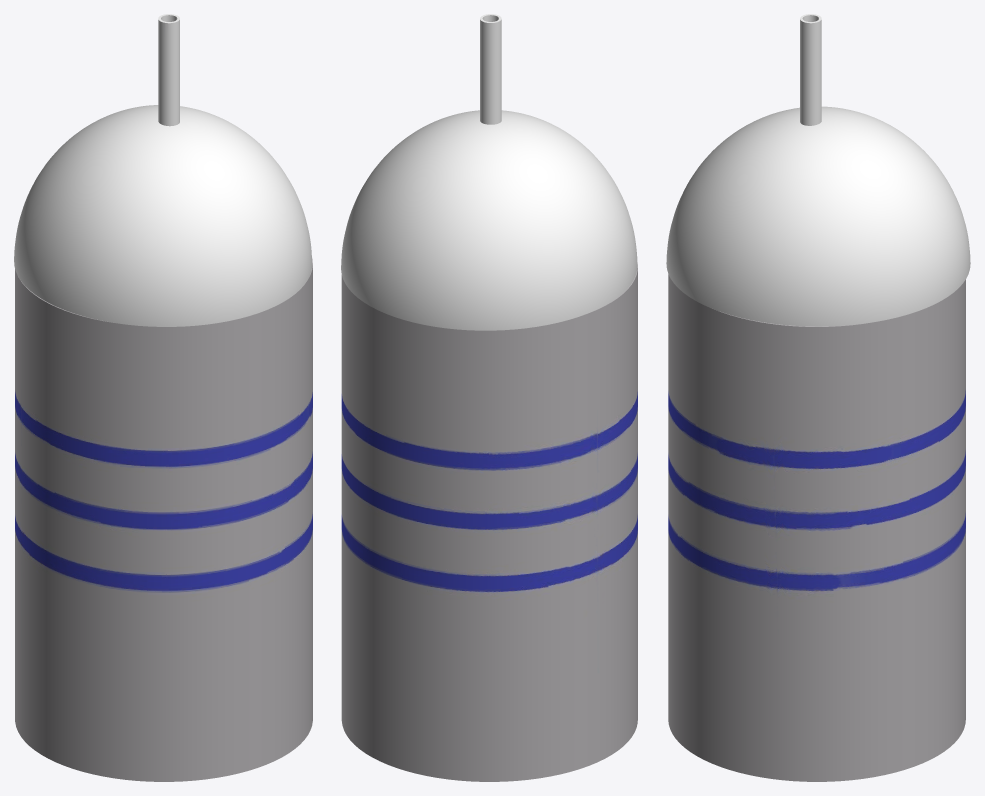
The model's file is vasobebida.fbx.
3 views of the same model, side by side, from view 1: azimuth 30°, elevation 25°; view 2: azimuth 150°, elevation 25°; view 3: azimuth 270°, elevation 25° (orthographic).
Visible parts, largest first — view 1: node_id9, node_id12, node_id6; view 2: node_id9, node_id12, node_id6; view 3: node_id9, node_id12, node_id6.
Boxes of the visible parts, x1=… form: node_id9: x1=15, y1=258, x2=312, y2=781; node_id12: x1=14, y1=105, x2=312, y2=326; node_id6: x1=158, y1=14, x2=179, y2=126; node_id9: x1=341, y1=262, x2=637, y2=781; node_id12: x1=341, y1=110, x2=637, y2=330; node_id6: x1=480, y1=14, x2=501, y2=124; node_id9: x1=668, y1=274, x2=965, y2=781; node_id12: x1=666, y1=106, x2=970, y2=326; node_id6: x1=800, y1=14, x2=821, y2=125.
Size of the model in its own units: 0.1969 by 0.512 by 0.2011.
Materials: 3 (2 with a texture image).
